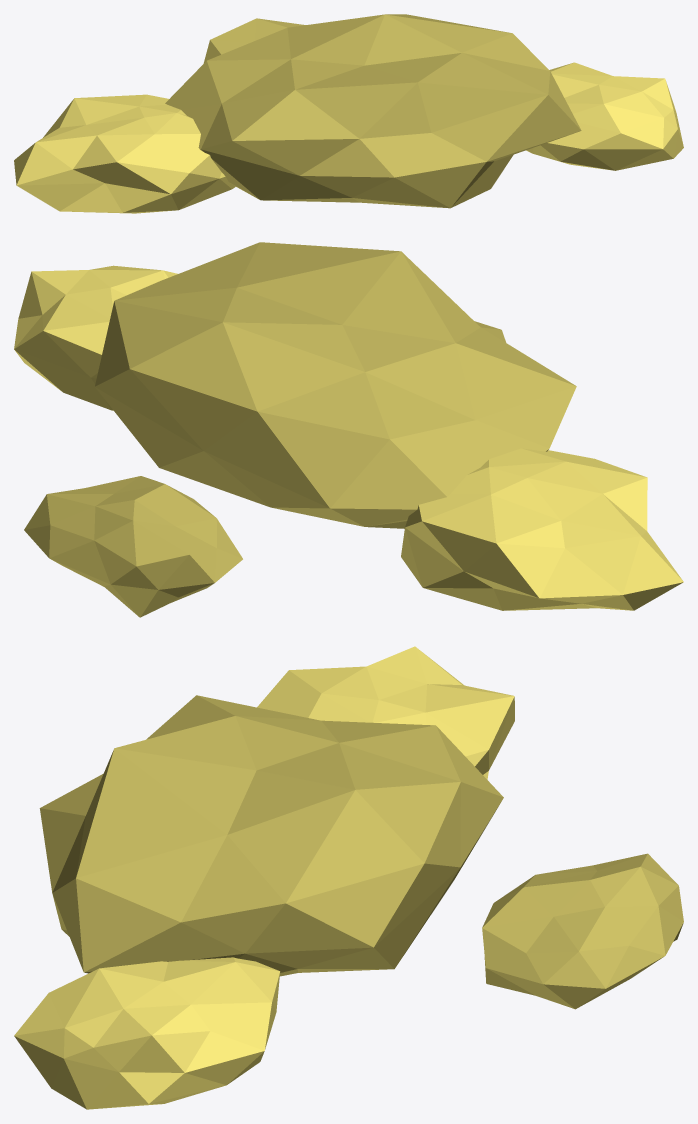
The model's file is t7_rock_depleted.glb.
The picture shows the model from 3 angles, top to bottom: view 1: azimuth 30°, elevation 25°; view 2: azimuth 150°, elevation 25°; view 3: azimuth 270°, elevation 25°; orthographic projection. The views are drawn at different scales.
Visible parts, largest first — view 1: RubbleCenter, RubbleLeft, RubbleRight, RubbleFront; view 2: RubbleCenter, RubbleLeft, RubbleFront, RubbleRight; view 3: RubbleCenter, RubbleRight, RubbleFront, RubbleLeft.
Boxes of the visible parts, x1,y1,x2,y2 form: RubbleCenter: [165, 14, 581, 208]; RubbleLeft: [14, 94, 235, 213]; RubbleRight: [526, 62, 683, 170]; RubbleFront: [203, 18, 305, 63]; RubbleCenter: [95, 242, 576, 528]; RubbleLeft: [401, 448, 683, 610]; RubbleFront: [24, 476, 242, 617]; RubbleRight: [14, 265, 177, 410]; RubbleCenter: [39, 695, 503, 976]; RubbleRight: [14, 957, 280, 1109]; RubbleFront: [482, 853, 683, 1009]; RubbleLeft: [257, 646, 514, 779].
Size of the model in its own units: 1.02 by 0.2306 by 0.7037.
